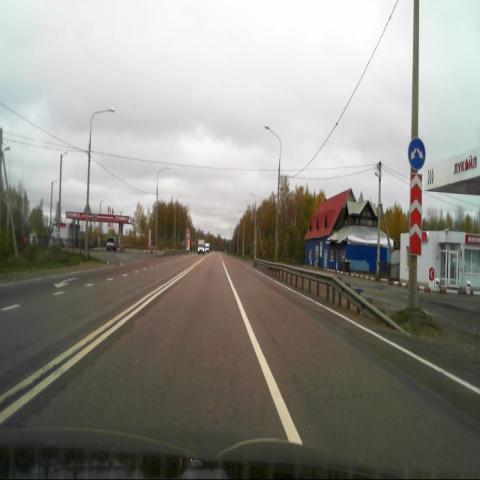4_2_3: (407, 138, 426, 171)
